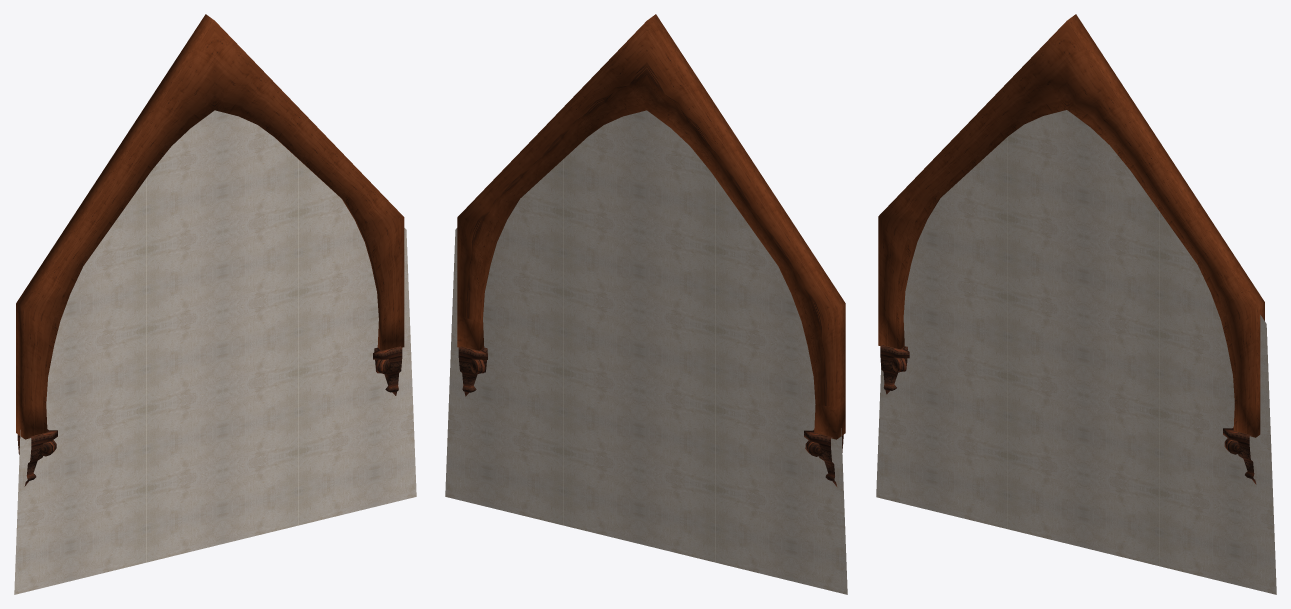
File: VaultedEndplain.fbx
The picture shows the model from 3 angles, left to right: view 1: azimuth 30°, elevation 25°; view 2: azimuth 150°, elevation 25°; view 3: azimuth 330°, elevation 25°; orthographic projection.
Visible parts, largest first — view 1: BeamCeiling.004; view 2: BeamCeiling.004; view 3: BeamCeiling.004.
Boxes of the visible parts, x1,y1,x2,y2 form: BeamCeiling.004: (14, 14, 416, 594); BeamCeiling.004: (445, 14, 847, 594); BeamCeiling.004: (876, 14, 1276, 594).
Size of the model in its own units: 936 by 1177 by 68.49.
